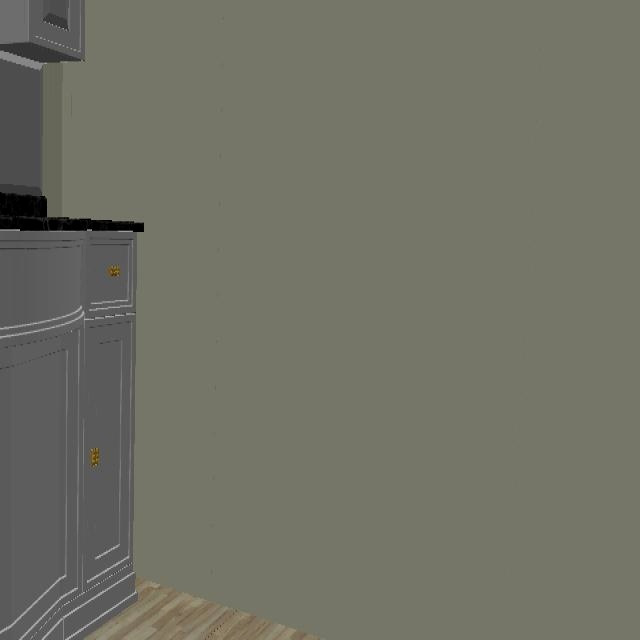cabinet: (0, 223, 143, 640)
washbasin: (0, 185, 137, 231)
